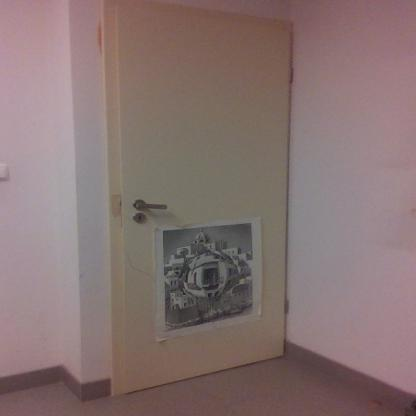door: (117, 4, 289, 370)
hinged: (282, 295, 292, 317), (286, 64, 296, 84)
lever: (132, 202, 170, 212)
